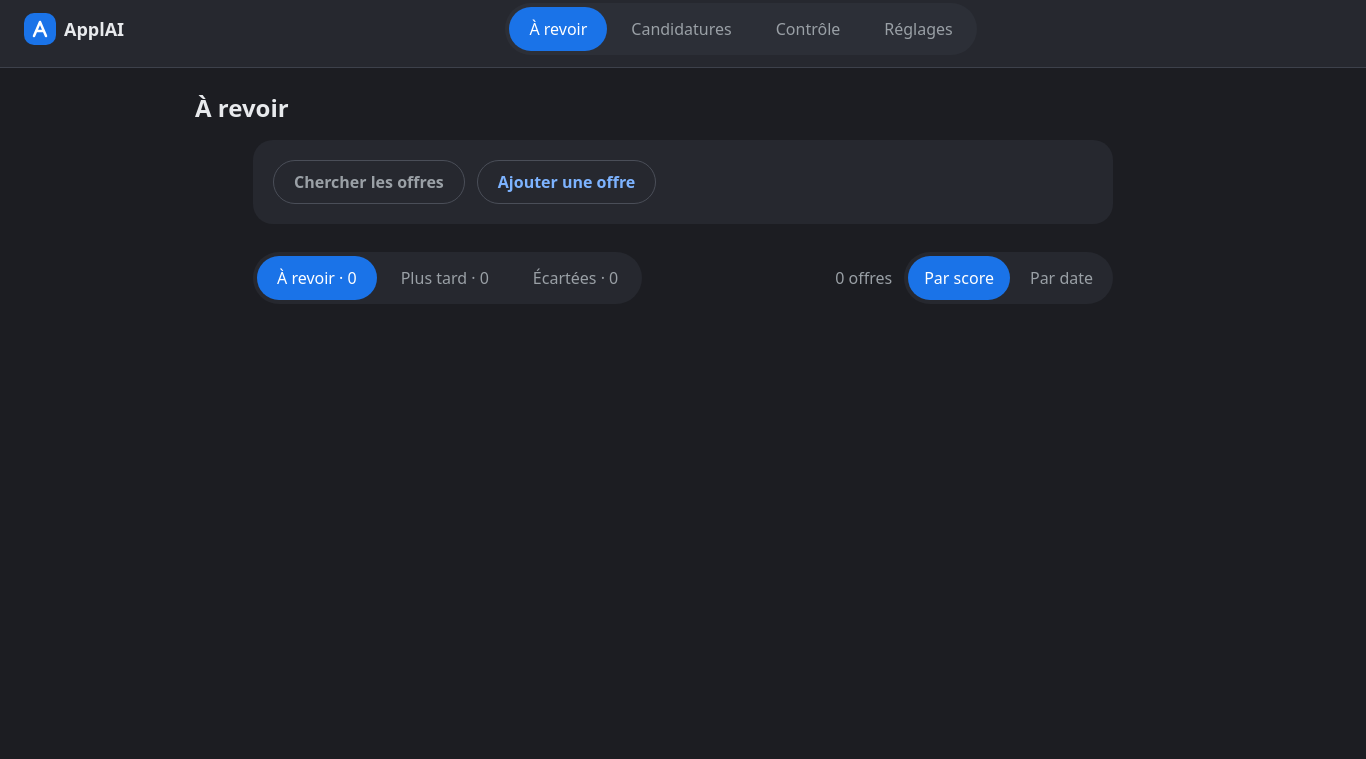
Test: the Settings page › shows the four categories in order, each service with its state as a light and, when not green, its sentence, in fr
Click the button "Réglages" at [919, 29], box [864, 7, 973, 51]
(page scrolled)
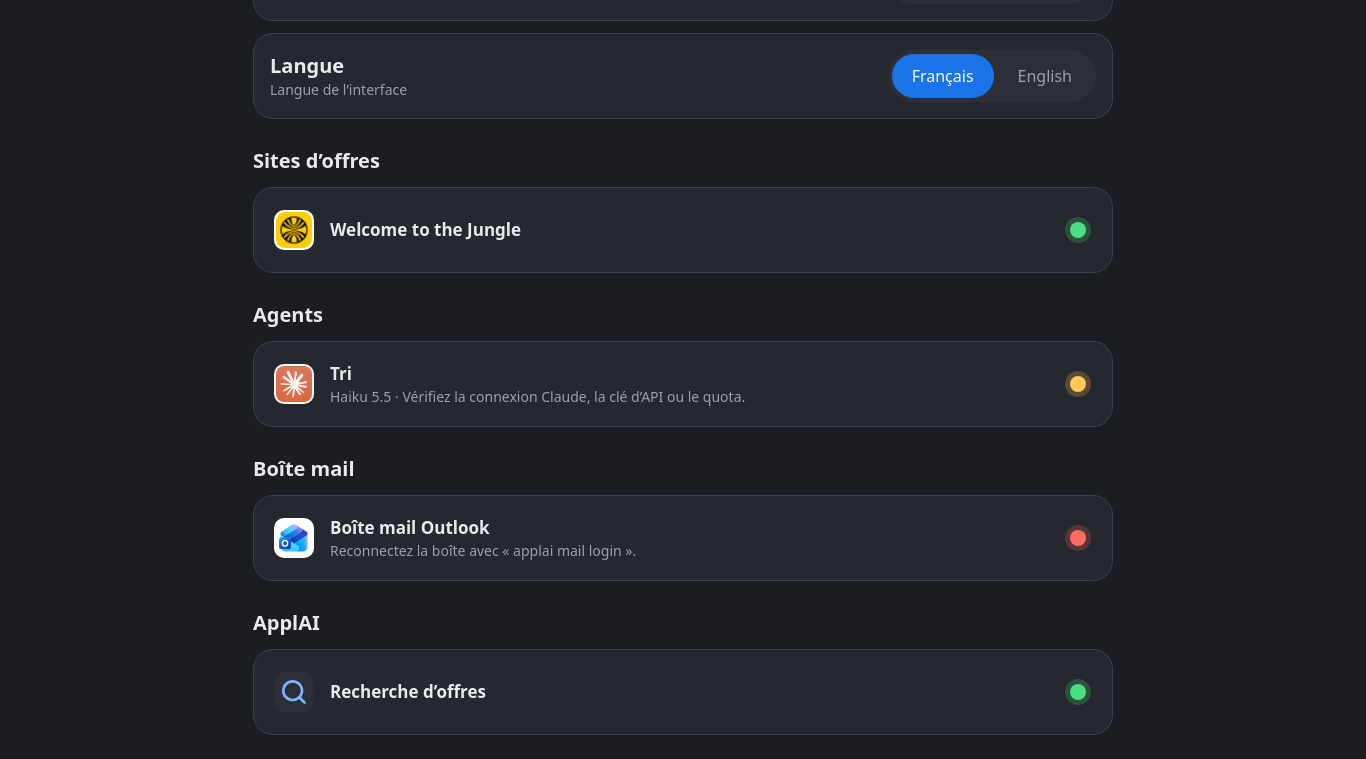
Expected: the heading "Welcome to the Jungle" is shown, [330, 218, 521, 241]
Expected: the heading "Tri" is shown, [330, 362, 352, 385]
Expected: the heading "Boîte mail Outlook" is shown, [330, 516, 490, 539]
